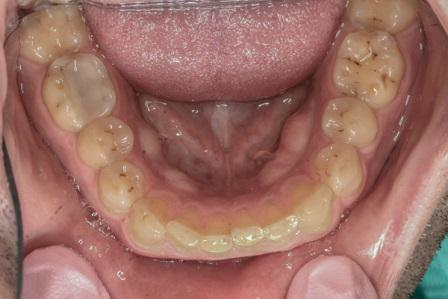LL1BC_decay: (320, 146, 364, 196)
LL1M_decay: (333, 36, 401, 97)
LL2BC_decay: (324, 99, 377, 149)
LLCI_healthy: (234, 205, 262, 247)
LLC_healthy: (288, 176, 333, 228)
LLLI_healthy: (262, 205, 297, 245)
LR1BC_decay: (100, 164, 143, 209)
LR1M_decay: (45, 58, 116, 120)
LR2BC_decay: (79, 121, 135, 162)
LR2M_decay: (25, 12, 87, 57)
LRCI_healthy: (202, 212, 233, 254)
LRC_healthy: (132, 200, 167, 245)
LRLI_healthy: (168, 208, 200, 249)
